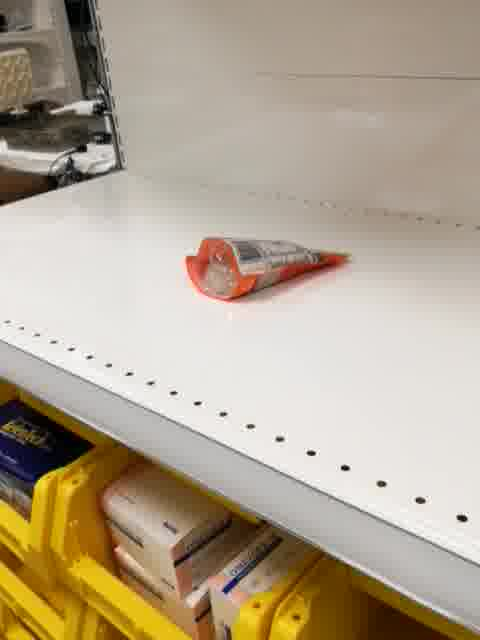whitechia: (184, 237, 350, 302)
